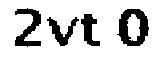0: (116, 5, 149, 49)
2: (12, 5, 45, 49)
t: (79, 9, 102, 51)
v: (47, 14, 79, 49)
